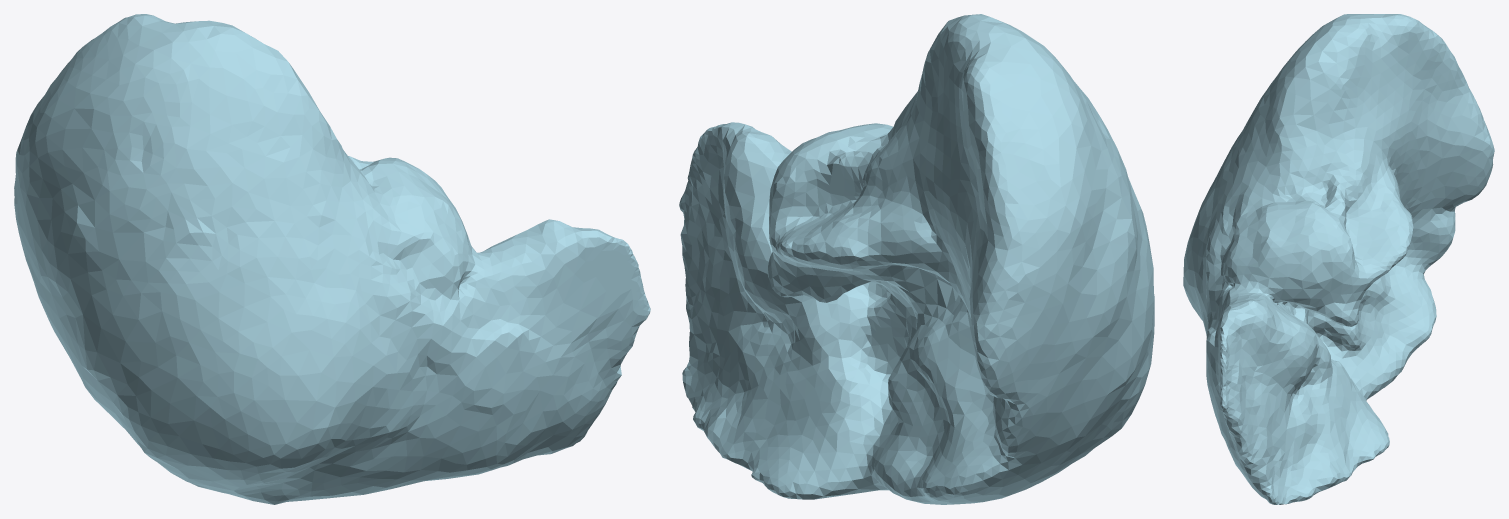
The model's file is liver.obj.
3 renders of one model, left to right at view 1: azimuth 30°, elevation 25°; view 2: azimuth 150°, elevation 25°; view 3: azimuth 270°, elevation 25°, orthographic. The views are drawn at different scales.
Parts seen in each view (by area): view 1: grp1; view 2: grp1; view 3: grp1.
Part boxes in pixels (<box>): grp1: <box>14,14,650,504</box>; grp1: <box>679,14,1154,504</box>; grp1: <box>1183,14,1494,504</box>.
Size of the model in its own units: 208 by 188 by 143.
